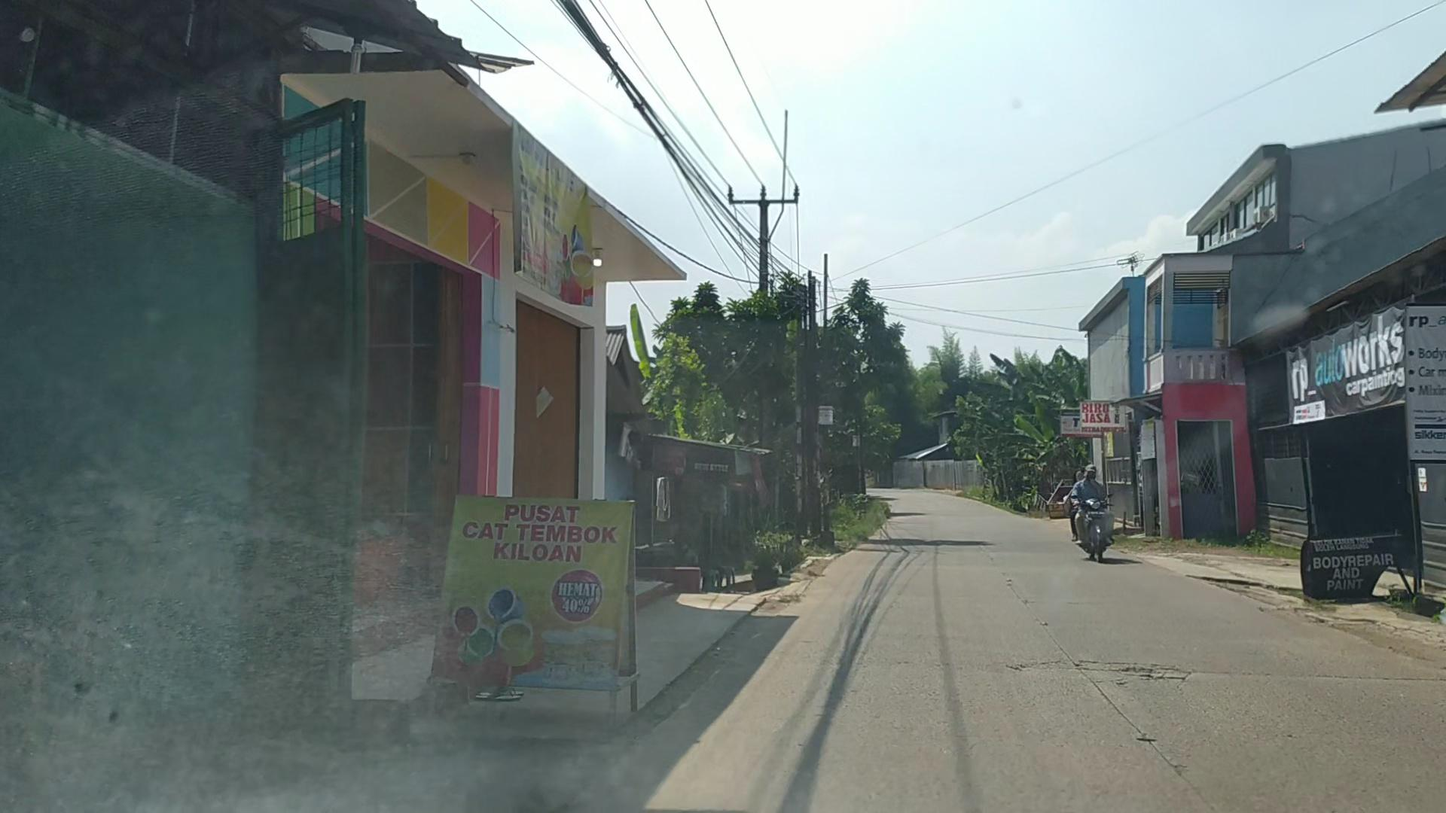pothole: (1072, 653, 1195, 688)
